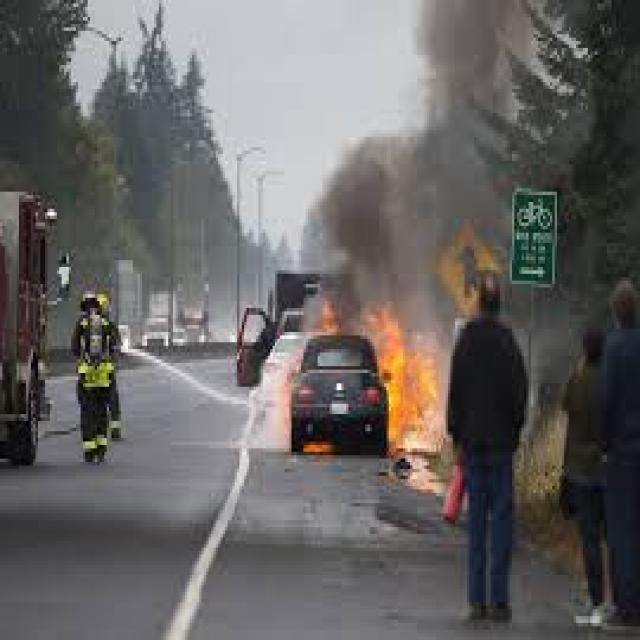fire: (365, 308, 443, 448), (315, 301, 339, 342)
smoke: (296, 3, 529, 312)
